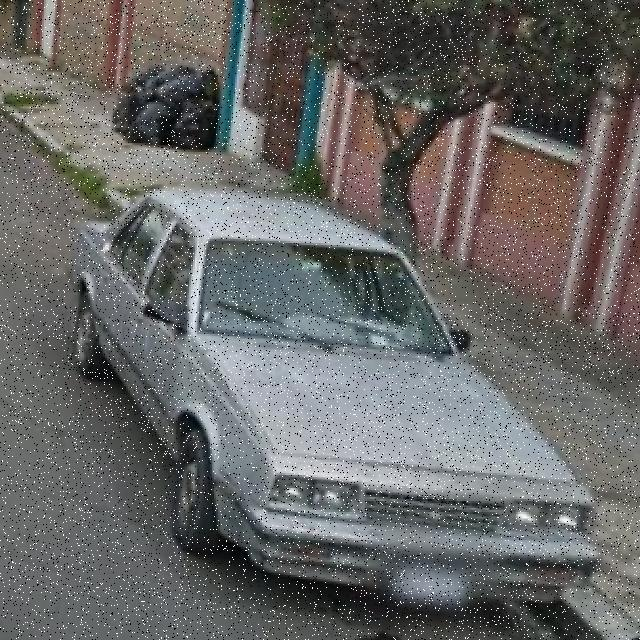cars: (80, 162, 606, 631)
